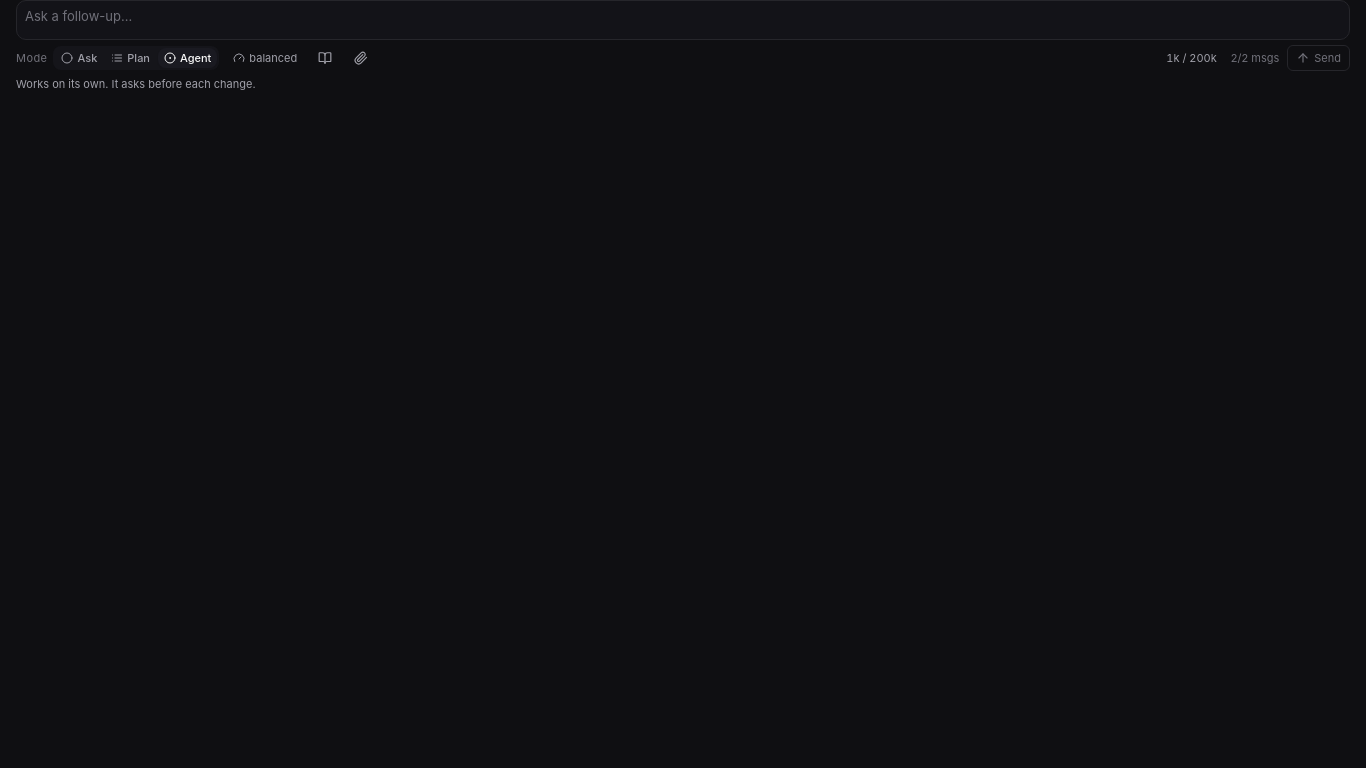
it: Feature: zoc-agent-chat-rebuild, task 22.13: mention autocomplete (R22.1) › opens on an @ at a token boundary, grouped by category and priced (R12.1, R12.5)
Type "@auth" into the text box with placeholder "Ask a follow-up…" at coordinates (683, 17), box [25,7,1341,27]
Wait 61 ms
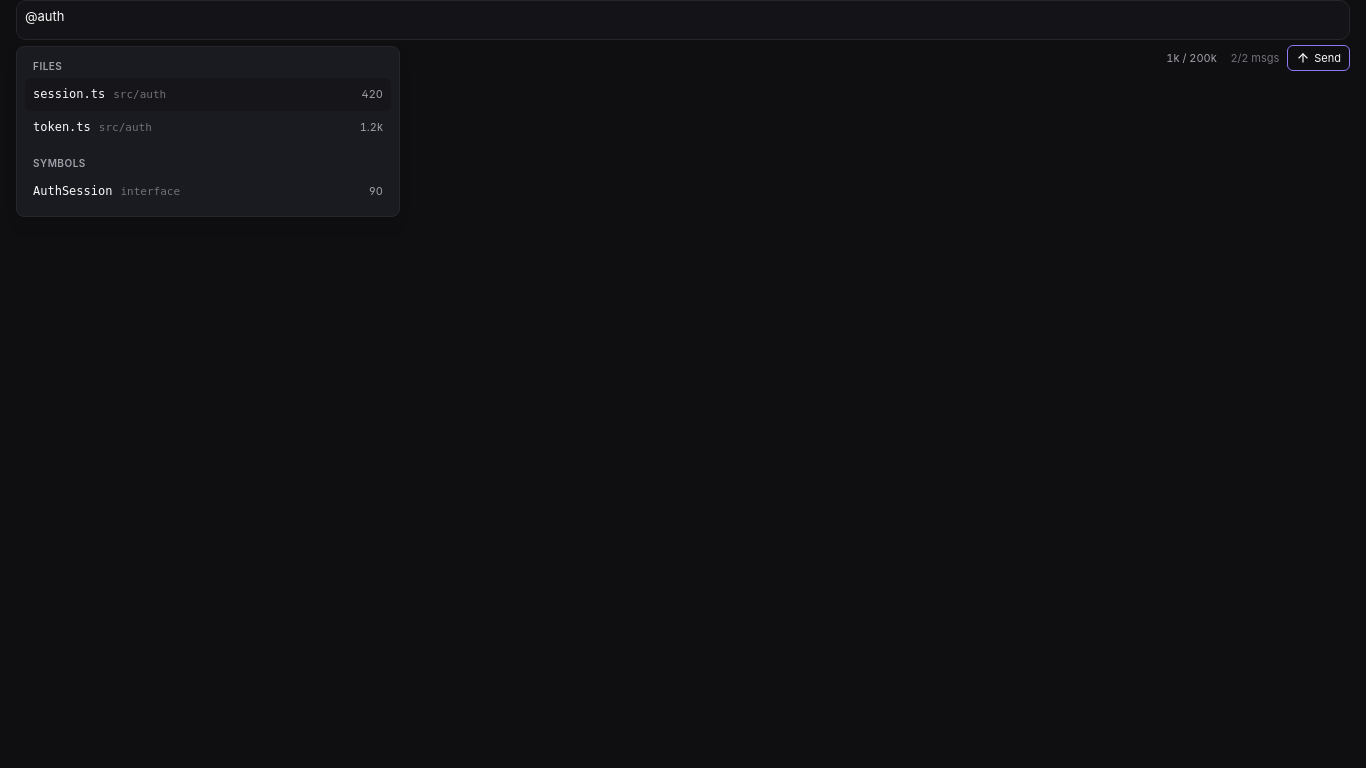
Result: the dialog is shown at [16,46,400,217]
Result: the text "Files" is shown at [33,60,62,72]
Result: the text "Symbols" is shown at [33,157,86,169]
